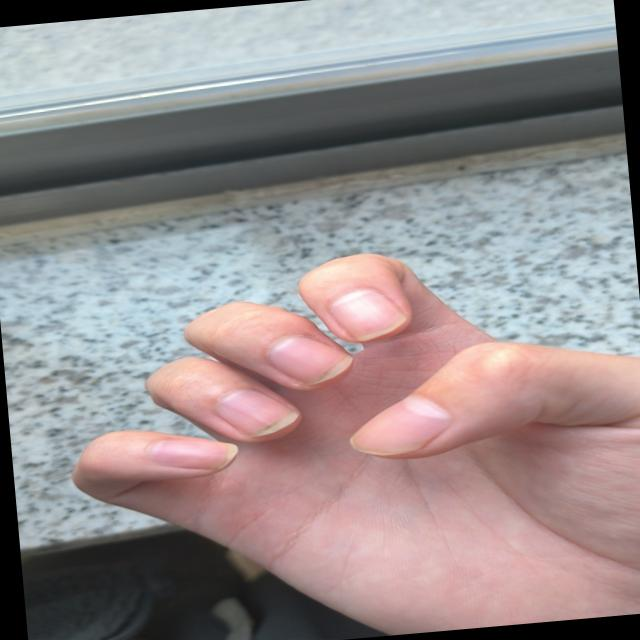Nail: (350, 395, 449, 455), (265, 335, 352, 384), (213, 388, 298, 437), (328, 288, 405, 340), (146, 438, 236, 469)
